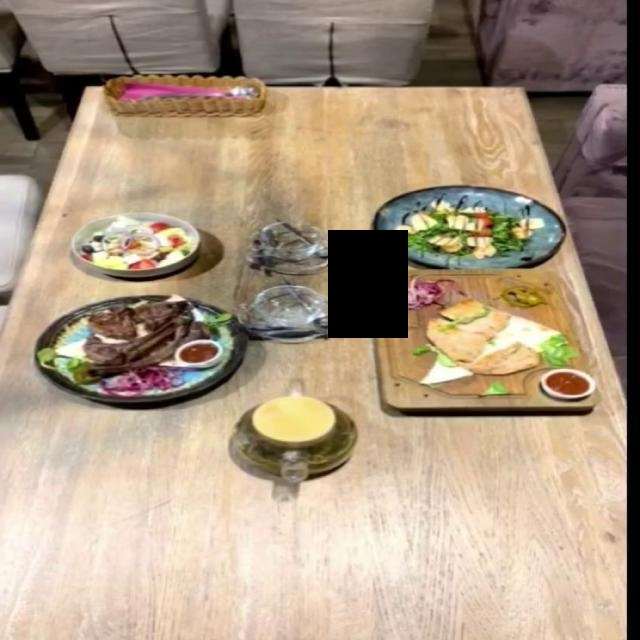meat: (372, 270, 602, 407), (33, 294, 249, 404)
salad: (374, 185, 568, 267), (68, 211, 202, 276)
tea: (230, 395, 359, 480)
